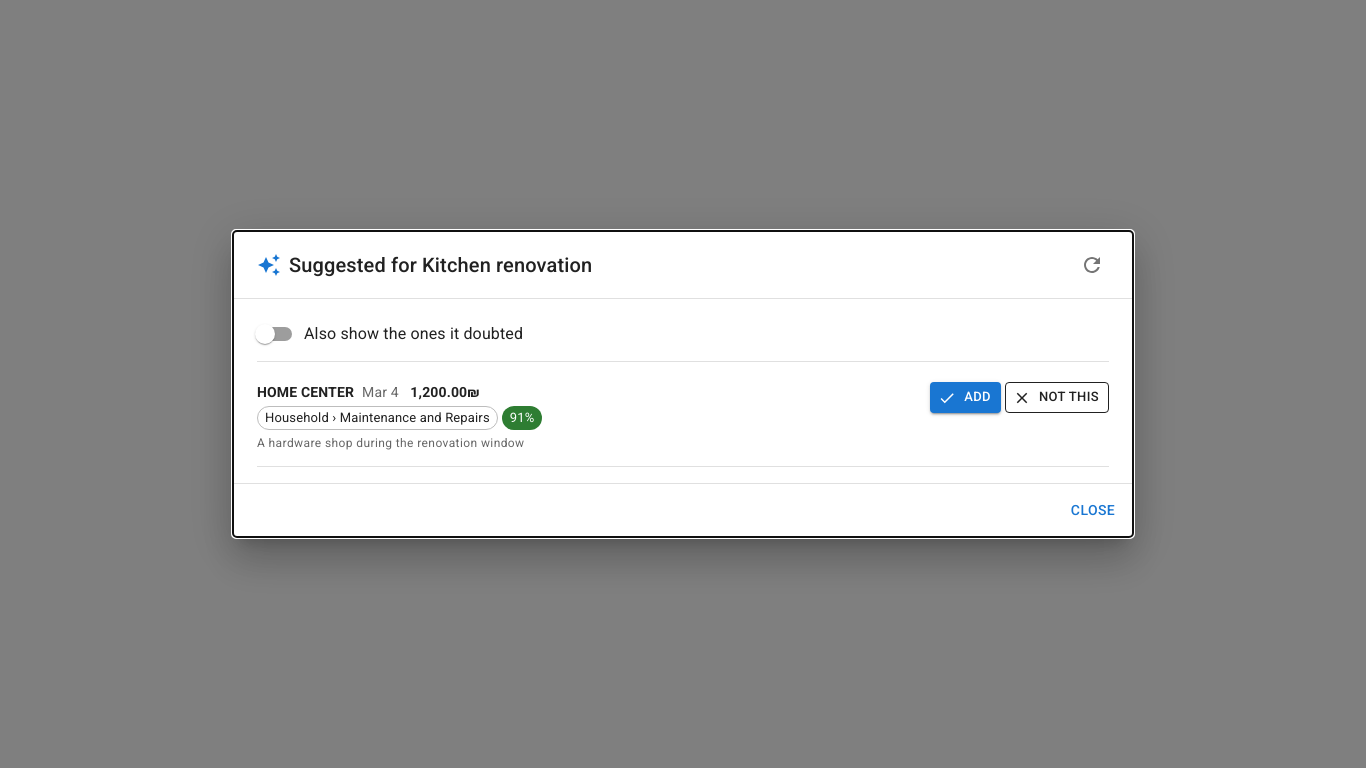
Test case: deciding › takes a decided suggestion off the list
The width and height of the screenshot is (1366, 768).
Expected: the text "HOME CENTER" is shown, [257, 382, 354, 402]
Click the button "Not this" at (1057, 398), box [1005, 382, 1109, 413]
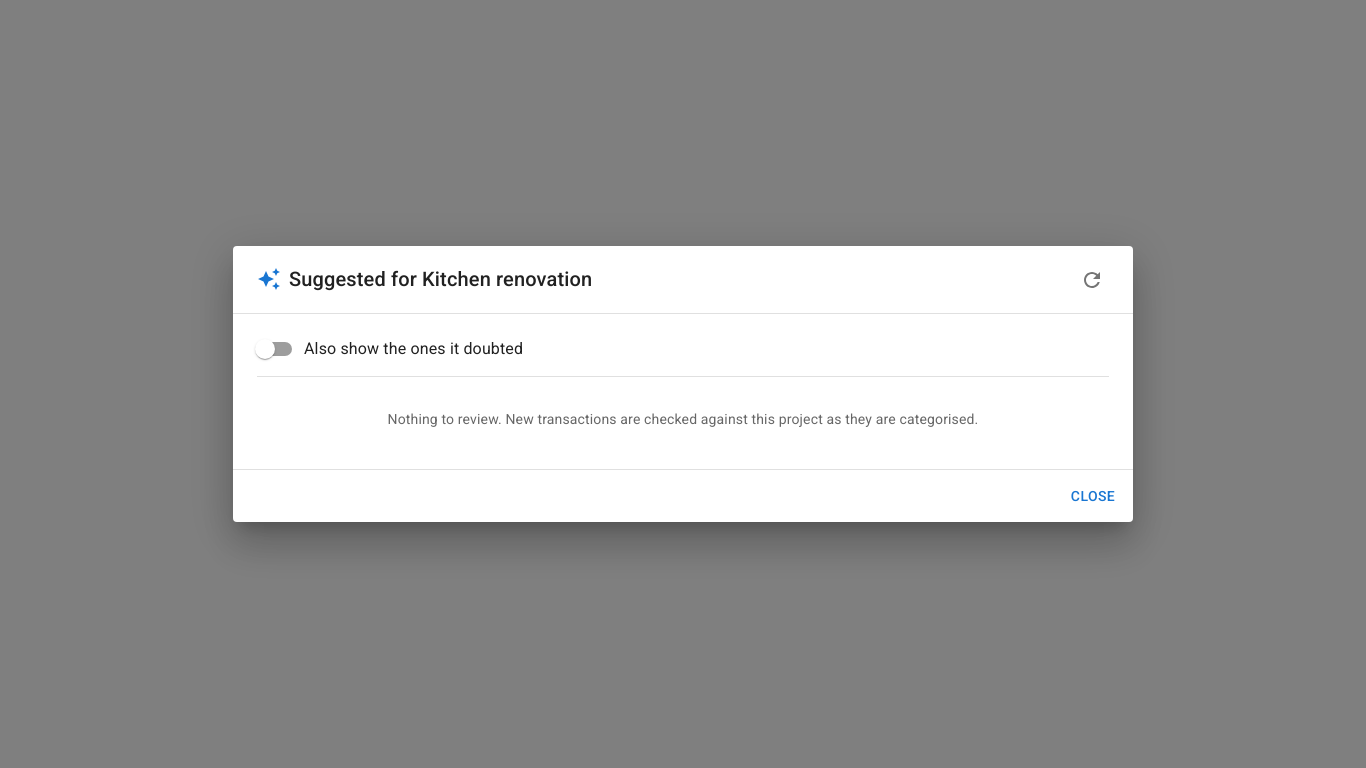
Now the text "HOME CENTER" is gone
